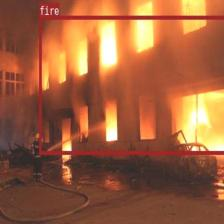fire: (38, 15, 224, 154)
